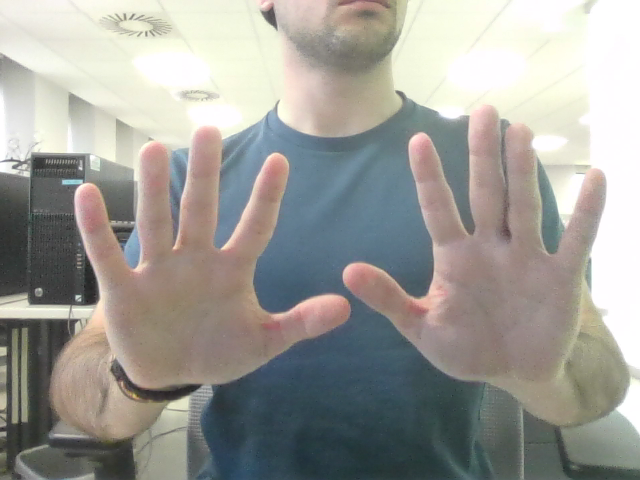Manos Arriba: (110, 131, 569, 352)
